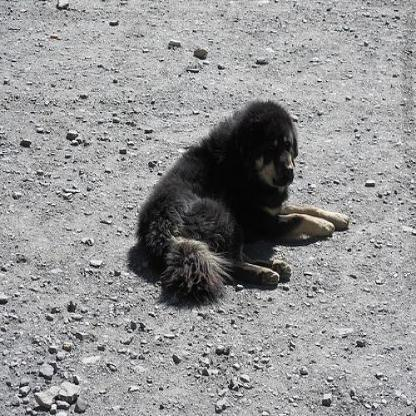Tibetan_mastiff: (126, 98, 348, 305)
